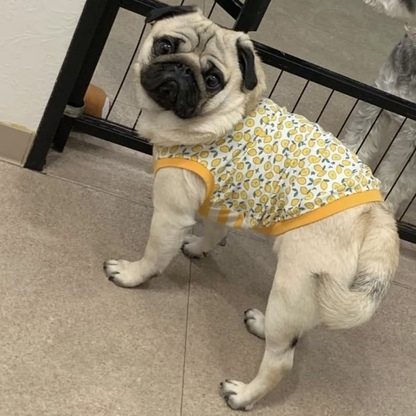Pug: (90, 1, 406, 416)
